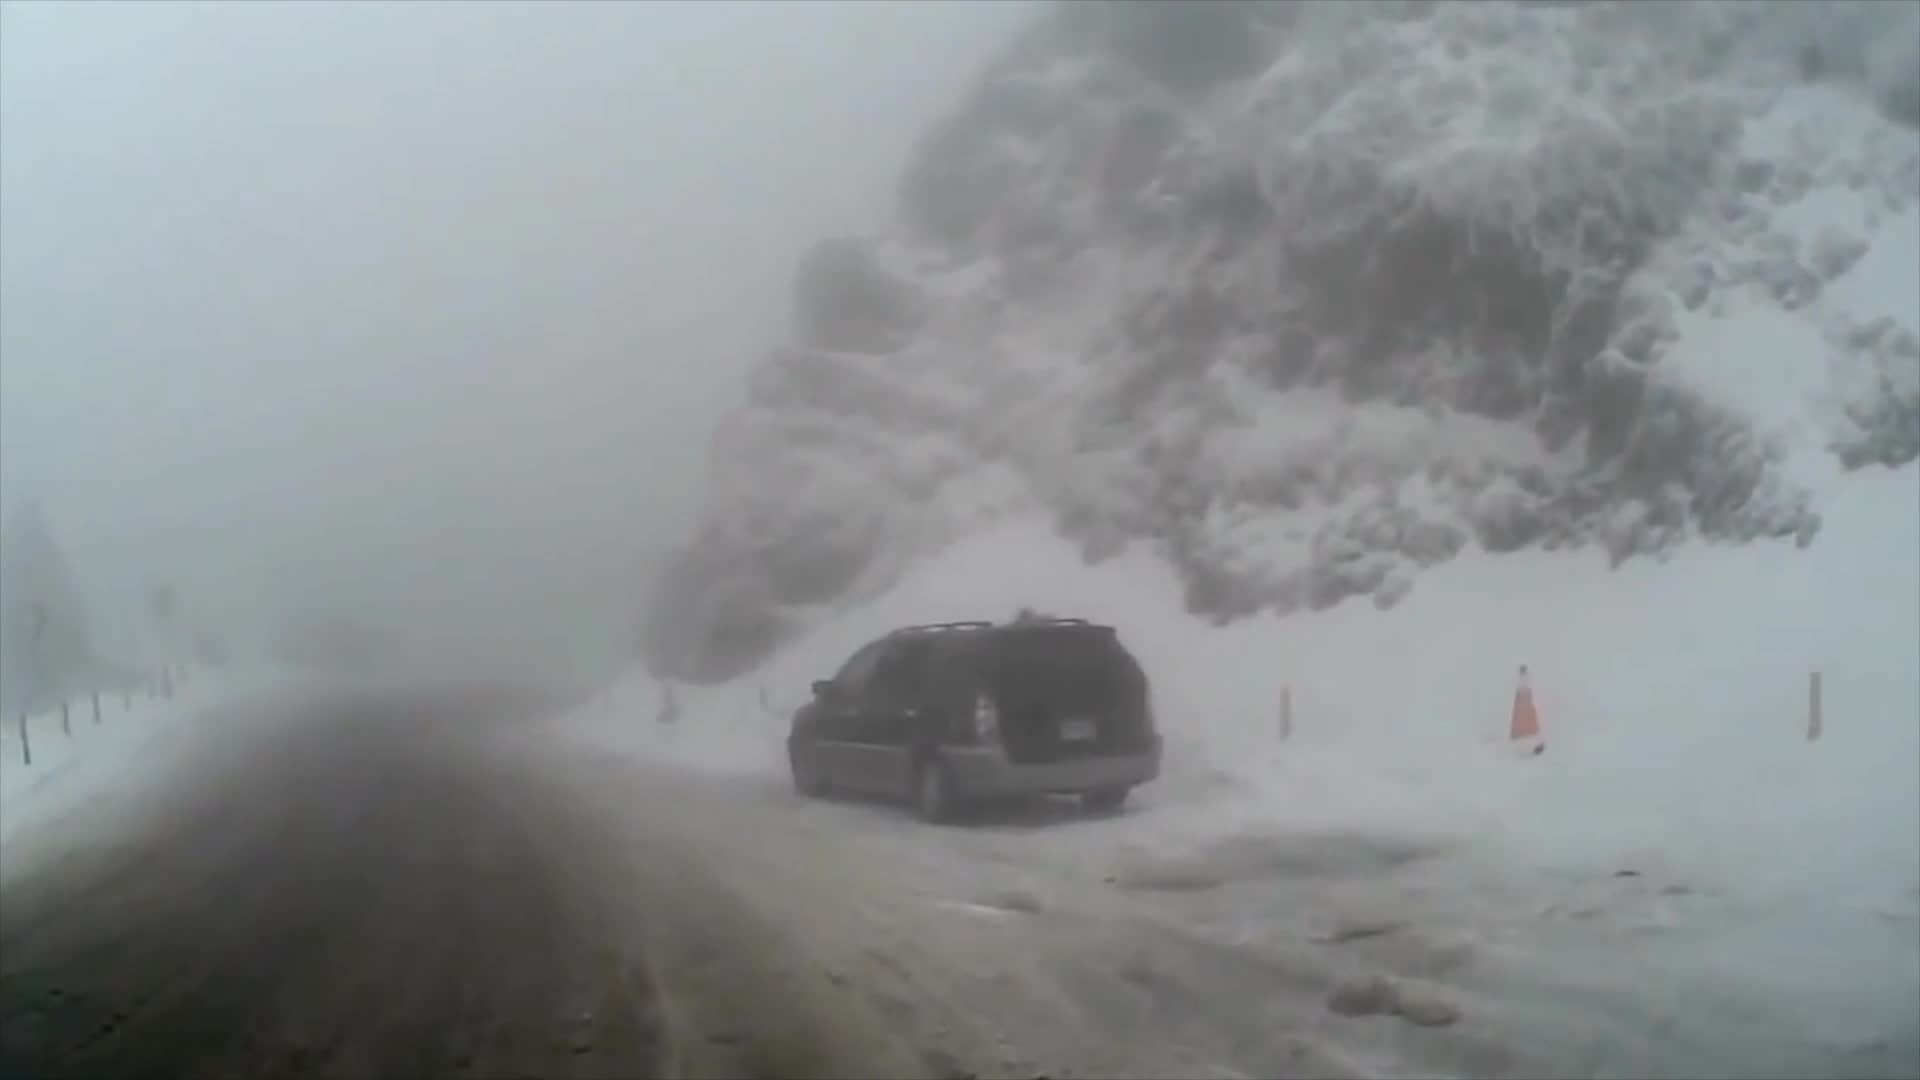vehicle: (785, 615, 1162, 820)
